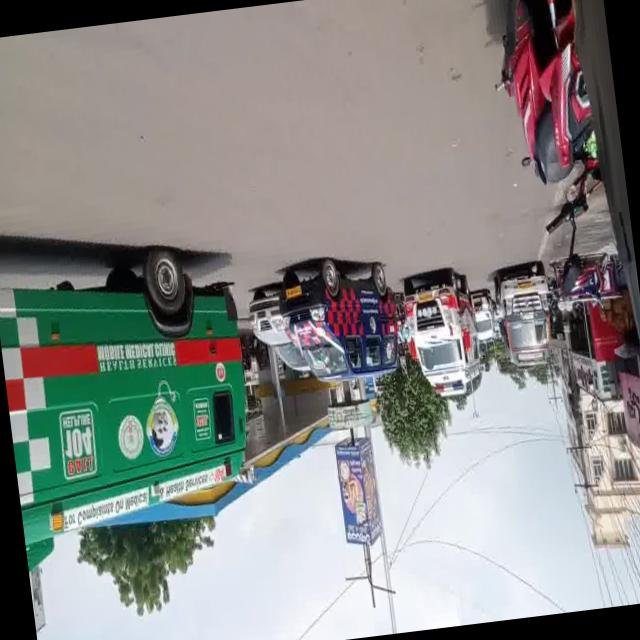ambulance: (0, 228, 261, 523), (276, 246, 408, 397), (402, 274, 490, 414), (492, 260, 562, 372)
